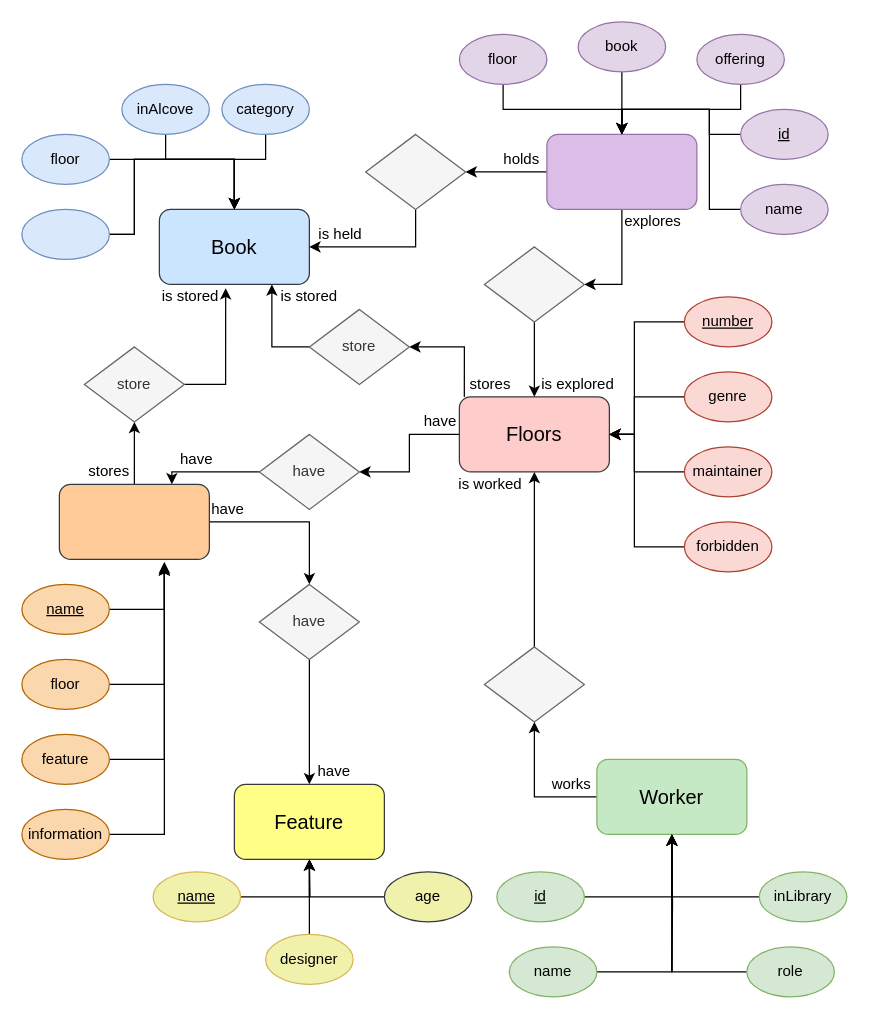
Image size: 869x1019. Some labels were removed from this diagram. Each missing label, with the centre of its shape:
"Alcove" belongs at point 133,521.
"explore" belongs at point 533,284.
"hold" belongs at point 415,171.
"title" belongs at point 65,233.
"Visitor" belongs at point 621,171.
"work" belongs at point 533,684.
